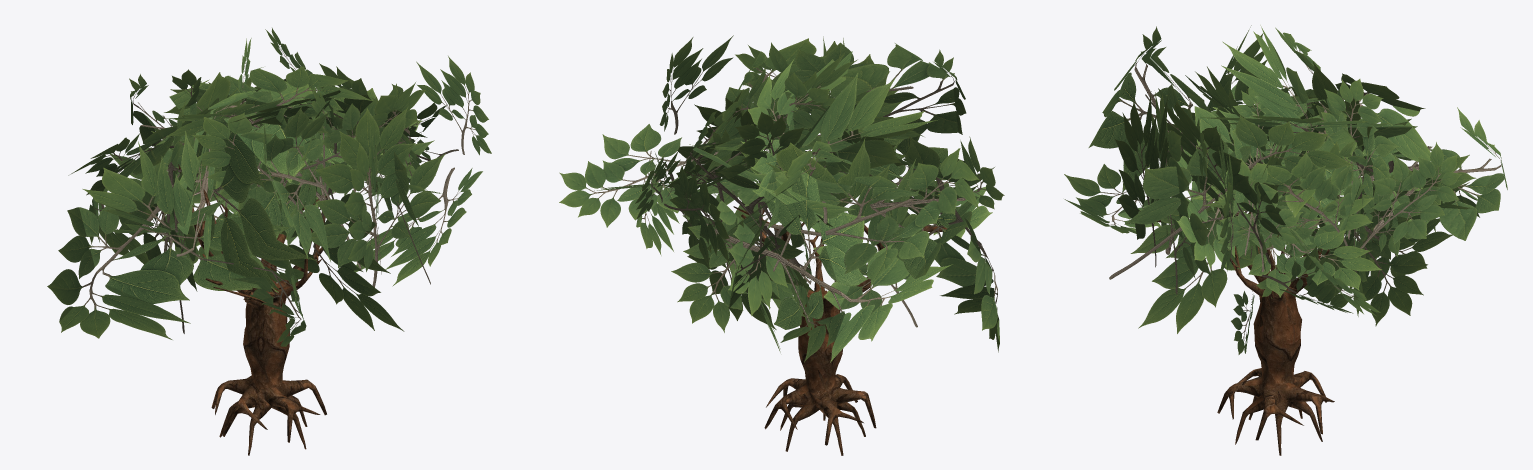
Rendered from Tree03.glb.
3 views of the same model, side by side, from view 1: azimuth 30°, elevation 25°; view 2: azimuth 150°, elevation 25°; view 3: azimuth 270°, elevation 25° (orthographic). The views are drawn at different scales.
Visible parts, largest first — view 1: Tree03.LOD0; view 2: Tree03.LOD0; view 3: Tree03.LOD0.
Boxes of the visible parts, <box> form: Tree03.LOD0: <box>47,28,491,455</box>; Tree03.LOD0: <box>559,35,1004,455</box>; Tree03.LOD0: <box>1064,25,1507,455</box>.
Size of what is drawn, in the model's own units: 8.79 by 7.42 by 8.19.
2 materials, 2 textured.
